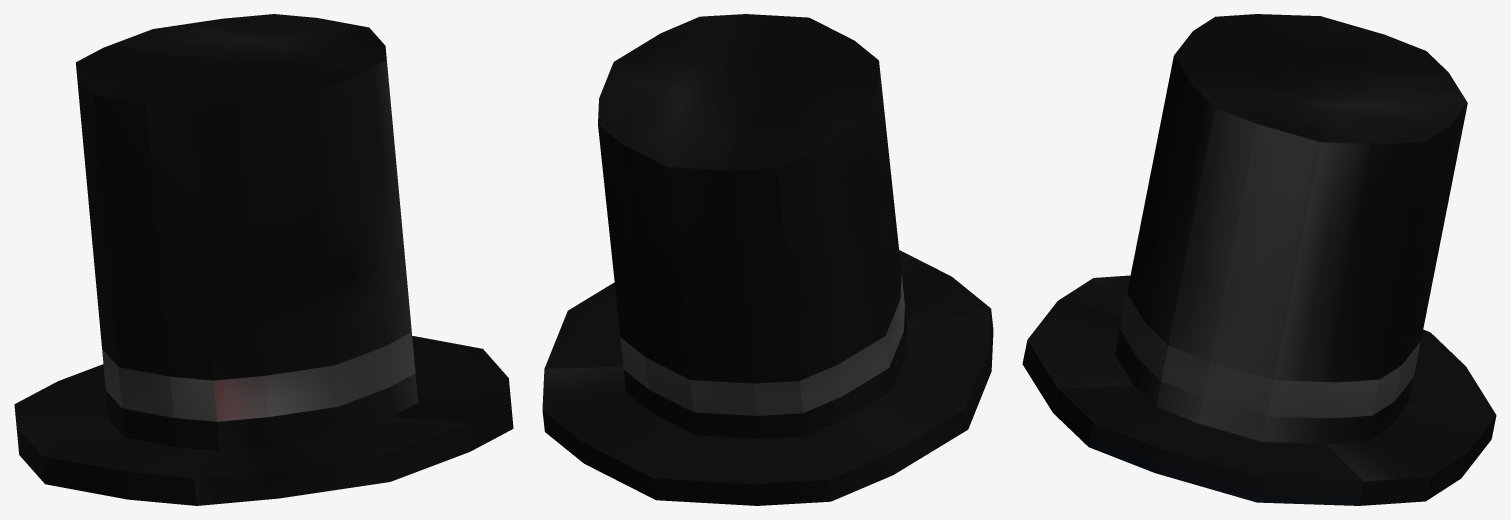
Rendered from tophat.fbx.
The picture shows the model from 3 angles, left to right: view 1: azimuth 30°, elevation 25°; view 2: azimuth 150°, elevation 25°; view 3: azimuth 270°, elevation 25°; orthographic projection. The views are drawn at different scales.
Visible parts, largest first — view 1: tophat; view 2: tophat; view 3: tophat.
Boxes of the visible parts, box(x1,y1,x2,y2) form: tophat: box(14, 14, 513, 505); tophat: box(542, 14, 993, 505); tophat: box(1022, 14, 1496, 505).
Size of the model in its own units: 34.1 by 30.34 by 33.93.
